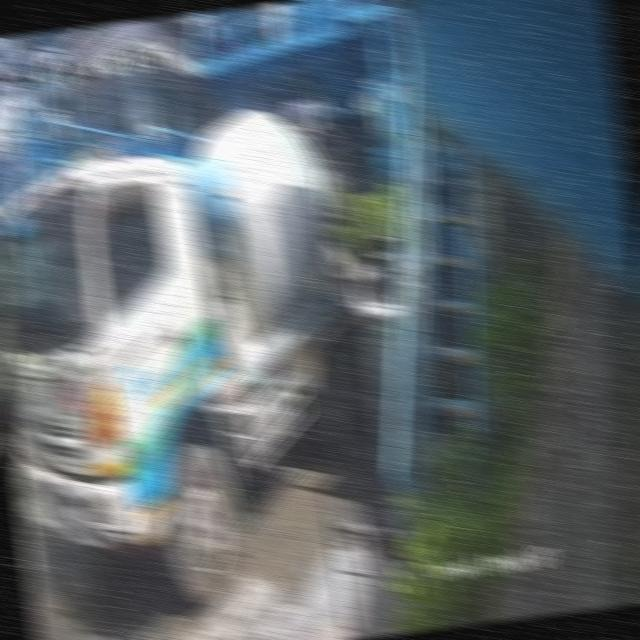cement_mixer_truck: (0, 110, 372, 603)
